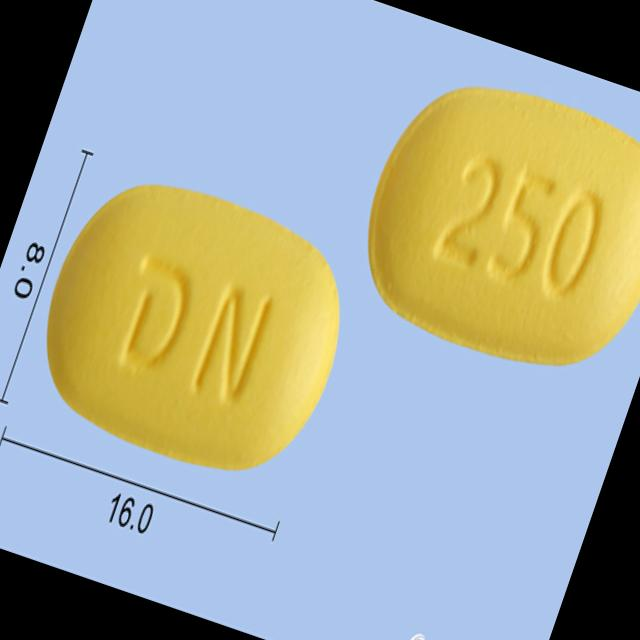Clamycin: (8, 149, 380, 506), (332, 50, 640, 404)
